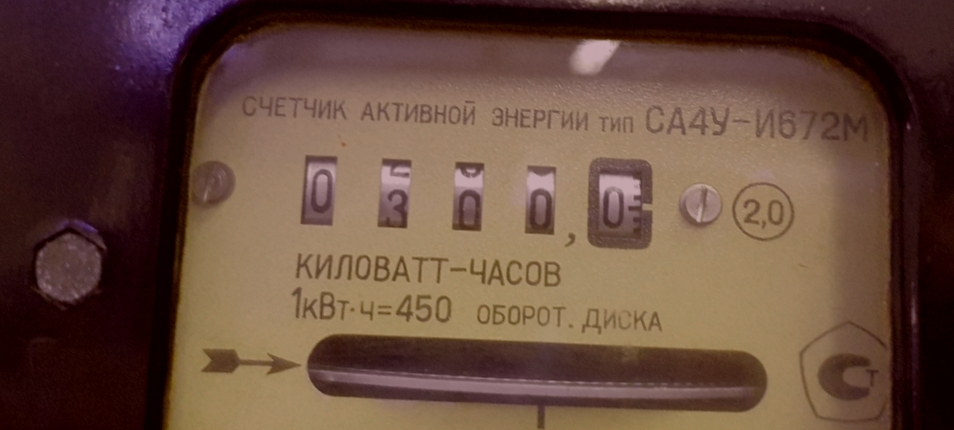0: (453, 185, 483, 234), (598, 184, 628, 233), (524, 187, 555, 234), (307, 165, 335, 217)
3: (381, 186, 411, 230)
screen: (279, 138, 664, 260)
